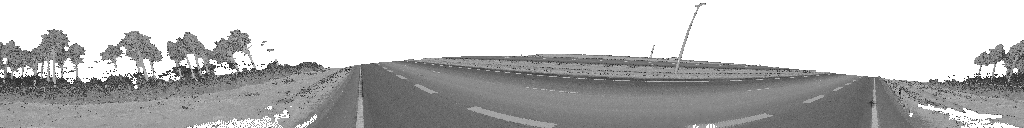light_pole: (675, 3, 705, 69)
